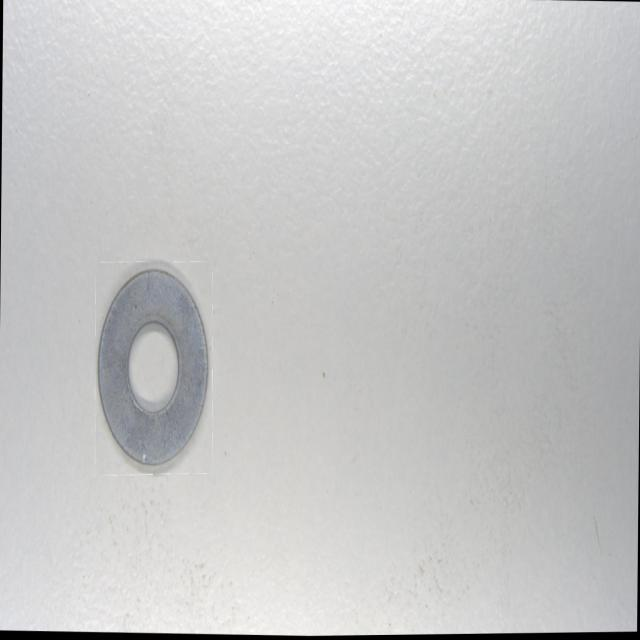washer: (96, 263, 212, 475)
